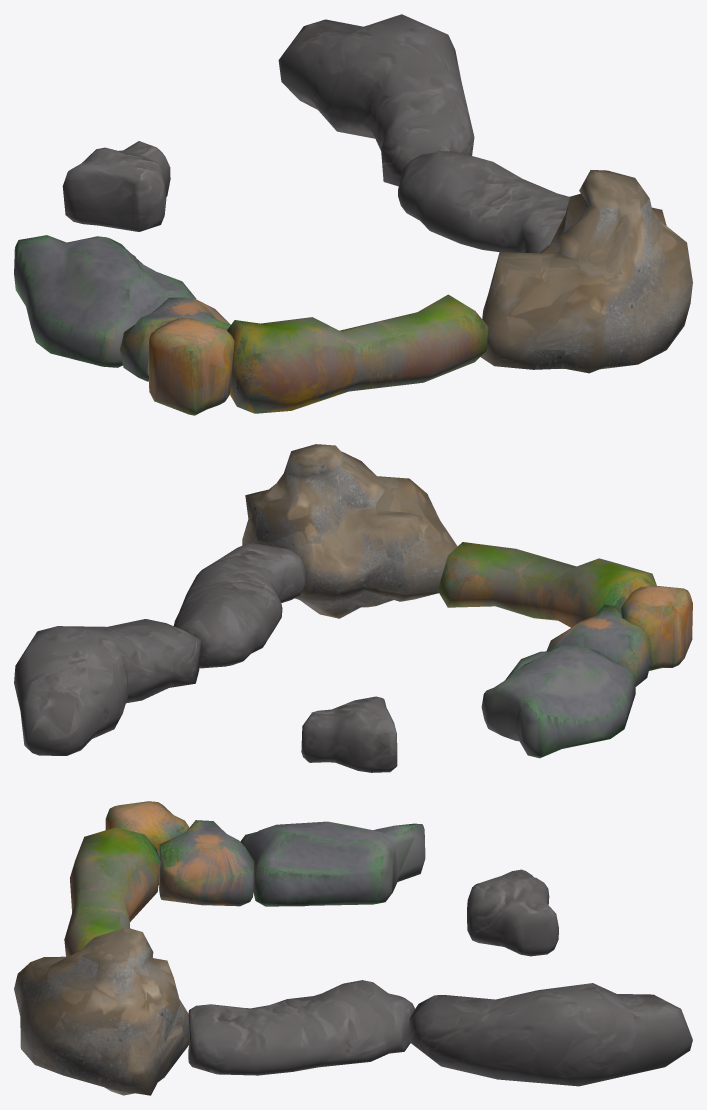
Rendered from map_01.gltf.
The picture shows the model from 3 angles, top to bottom: view 1: azimuth 30°, elevation 25°; view 2: azimuth 150°, elevation 25°; view 3: azimuth 270°, elevation 25°; orthographic projection. The views are drawn at different scales.
Parts seen in each view (by area): view 1: Cylinder, Plane.018, Plane.019, Plane.022, Plane.014, Plane.025, Plane.026, Plane.021; view 2: Cylinder, Plane.018, Plane.022, Plane.019, Plane.014, Plane.025, Plane.026, Plane.021; view 3: Plane.018, Cylinder, Plane.014, Plane.022, Plane.019, Plane.021, Plane.025, Plane.026.
Part boxes in pixels (bbox=[...]): Cylinder: bbox=[480, 170, 692, 373]; Plane.018: bbox=[278, 14, 474, 186]; Plane.019: bbox=[227, 294, 488, 413]; Plane.022: bbox=[14, 235, 196, 367]; Plane.014: bbox=[398, 151, 569, 253]; Plane.025: bbox=[62, 141, 170, 231]; Plane.026: bbox=[147, 318, 234, 415]; Plane.021: bbox=[119, 297, 230, 381]; Cylinder: bbox=[242, 444, 457, 618]; Plane.018: bbox=[14, 619, 200, 755]; Plane.022: bbox=[481, 644, 635, 758]; Plane.019: bbox=[437, 542, 656, 627]; Plane.014: bbox=[173, 543, 305, 668]; Plane.025: bbox=[301, 696, 397, 772]; Plane.026: bbox=[621, 585, 692, 670]; Plane.021: bbox=[546, 604, 651, 686]; Plane.018: bbox=[409, 983, 692, 1086]; Cylinder: bbox=[14, 928, 189, 1095]; Plane.014: bbox=[188, 980, 414, 1075]; Plane.022: bbox=[240, 821, 425, 906]; Plane.019: bbox=[64, 827, 160, 956]; Plane.021: bbox=[159, 820, 253, 906]; Plane.025: bbox=[467, 869, 558, 956]; Plane.026: bbox=[105, 801, 189, 885].
Size of the model in its own units: 52.25 by 17.3 by 62.54.
3 materials, 3 textured.
